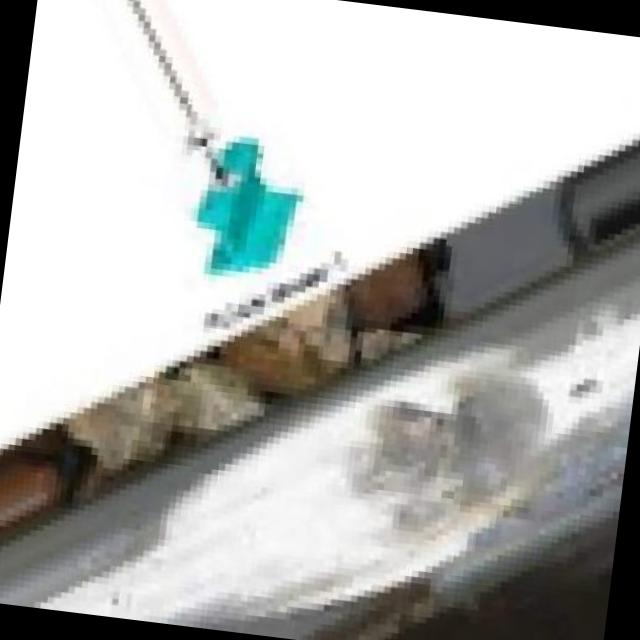defective: (137, 273, 633, 640)
